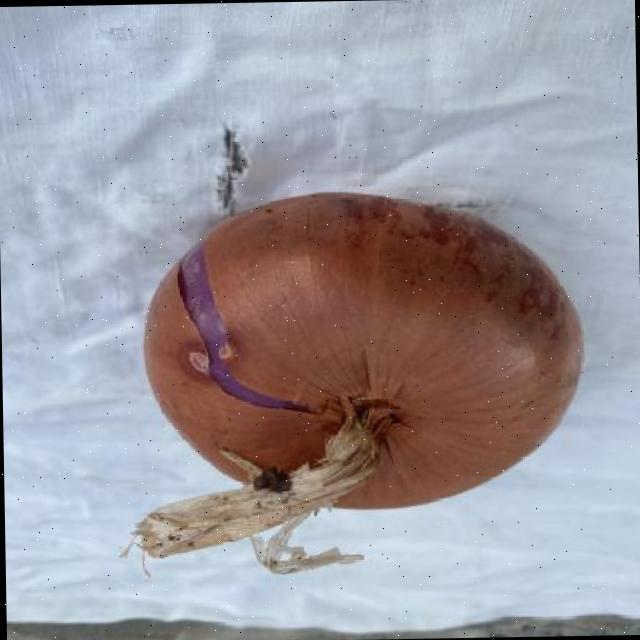Onion: (130, 192, 582, 573)
